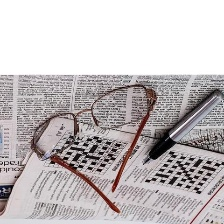news_paper: (0, 72, 224, 214), (0, 115, 224, 224)
